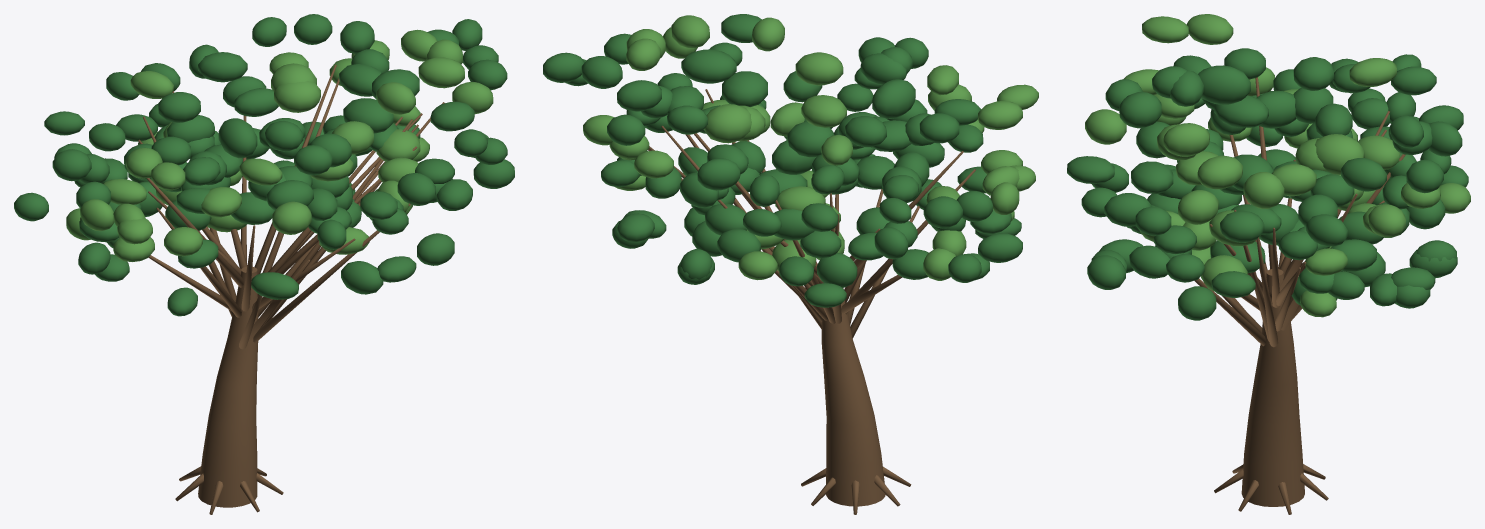
Rendered from rorng_city_neoq_tree_windswept.glb.
3 renders of one model, left to right at view 1: azimuth 30°, elevation 25°; view 2: azimuth 150°, elevation 25°; view 3: azimuth 270°, elevation 25°, orthographic. The views are drawn at different scales.
Visible parts, largest first — view 1: rorng_city_neoq_tree_windswept_lod0; view 2: rorng_city_neoq_tree_windswept_lod0; view 3: rorng_city_neoq_tree_windswept_lod0.
Boxes of the visible parts, bbox=[...] form: rorng_city_neoq_tree_windswept_lod0: bbox=[14, 14, 514, 514]; rorng_city_neoq_tree_windswept_lod0: bbox=[543, 14, 1038, 514]; rorng_city_neoq_tree_windswept_lod0: bbox=[1067, 14, 1470, 514].
Size of what is drawn, in the model's own units: 8.64 by 7.56 by 6.36.
